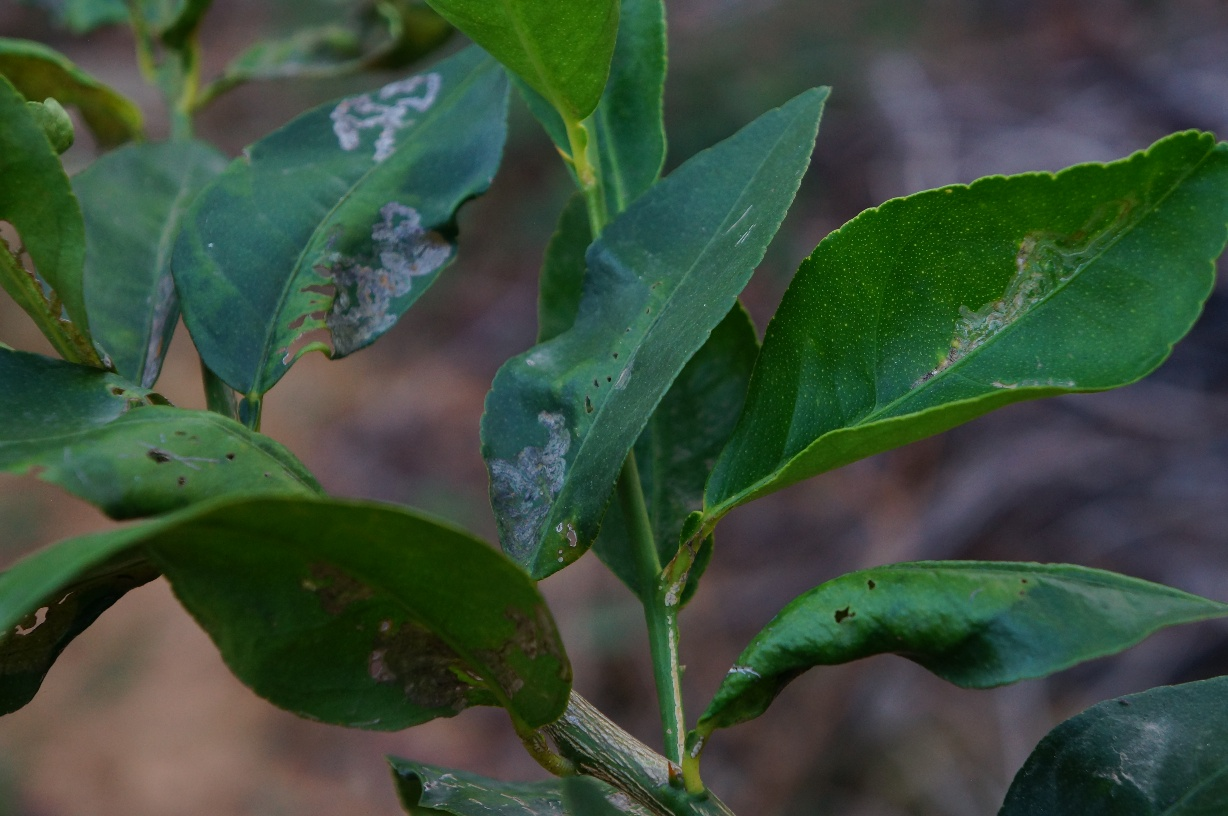curly: (683, 550, 1228, 765)
damage: (905, 215, 1118, 395), (327, 177, 469, 367), (479, 400, 591, 582), (324, 63, 452, 167)
